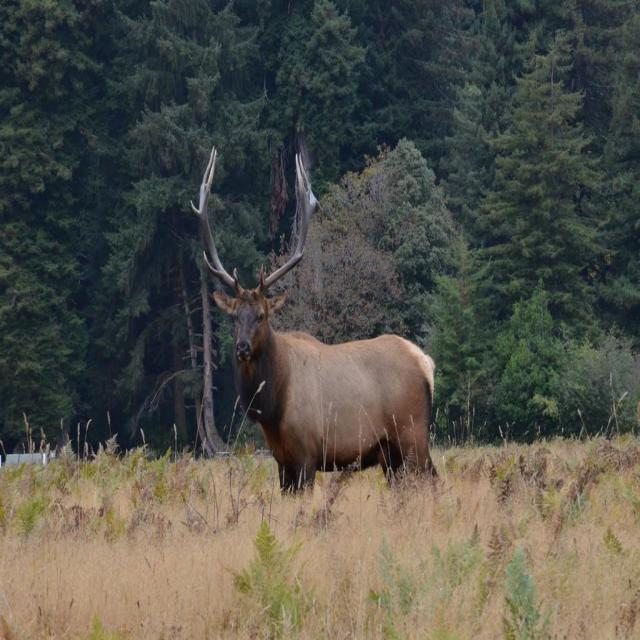Deer: (188, 140, 436, 506)
